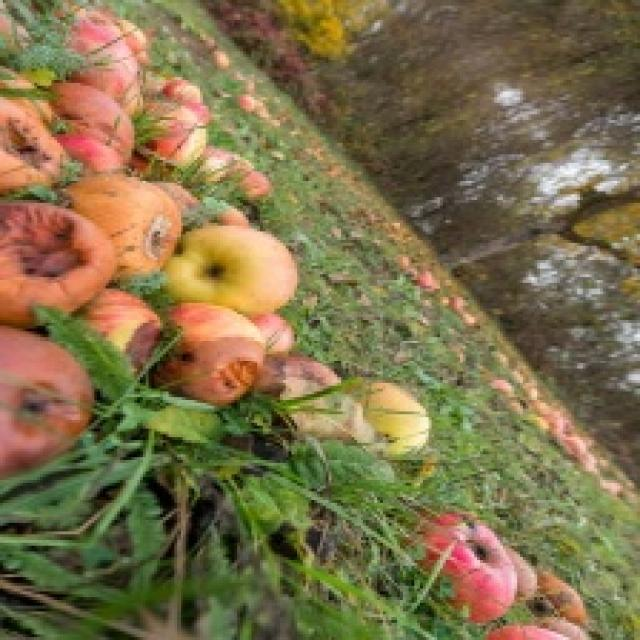rotten_apple: (0, 205, 115, 323), (0, 328, 91, 467), (174, 303, 266, 402), (0, 97, 64, 195), (94, 292, 164, 374)
